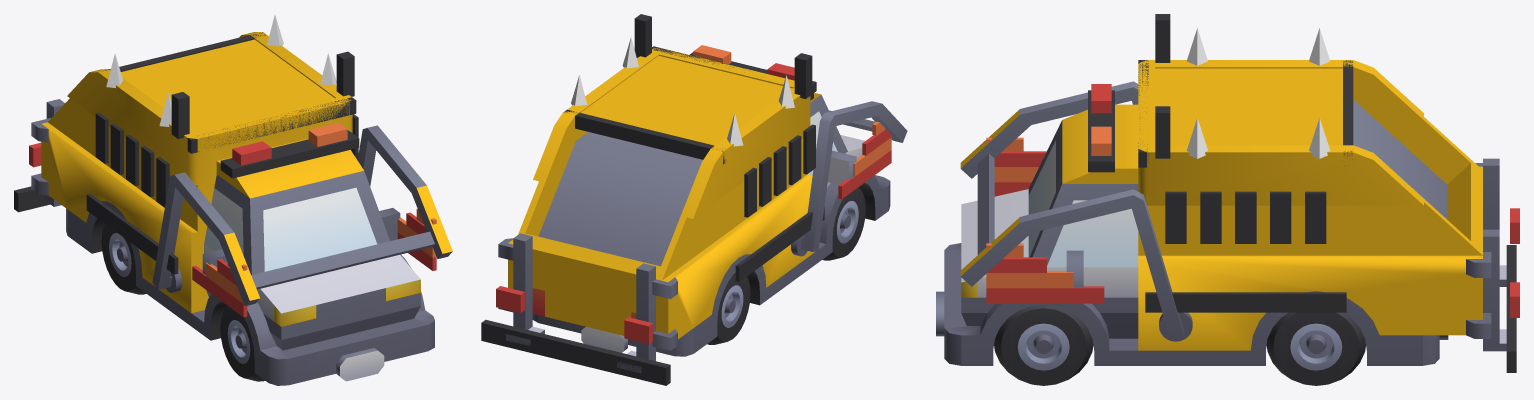
Rendered from bus.glb.
The picture shows the model from 3 angles, left to right: view 1: azimuth 30°, elevation 25°; view 2: azimuth 150°, elevation 25°; view 3: azimuth 270°, elevation 25°; orthographic projection. The views are drawn at different scales.
Parts seen in each view (by area): view 1: body, arm, wheel-front-right, wheel-back-right; view 2: body, arm, wheel-front-right, wheel-back-right; view 3: body, arm, wheel-front-left, wheel-back-left.
Boxes of the visible parts, x1,y1,x2,y2 form: body: (14,14,436,385); arm: (152,125,452,306); wheel-front-right: (220,306,264,381); wheel-back-right: (101,224,146,294); body: (481,14,891,385); arm: (791,101,907,256); wheel-front-right: (822,187,865,260); wheel-back-right: (707,272,750,344); body: (936,14,1519,372); arm: (960,81,1192,341); wheel-front-left: (994,305,1093,385); wheel-back-left: (1266,312,1365,385).
Size of the model in its own units: 1.6 by 1.88 by 3.47.
Materials: 1 (1 with a texture image).
